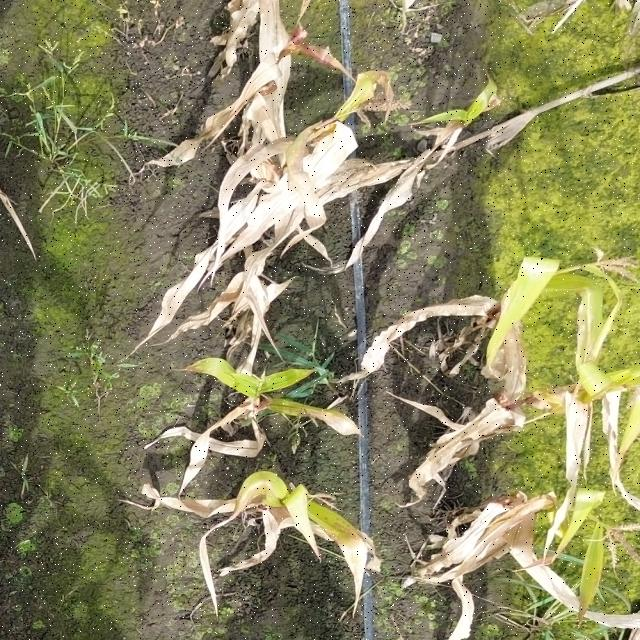northern-leaf-blight: (315, 521, 387, 613), (255, 392, 371, 445), (573, 283, 621, 388)
